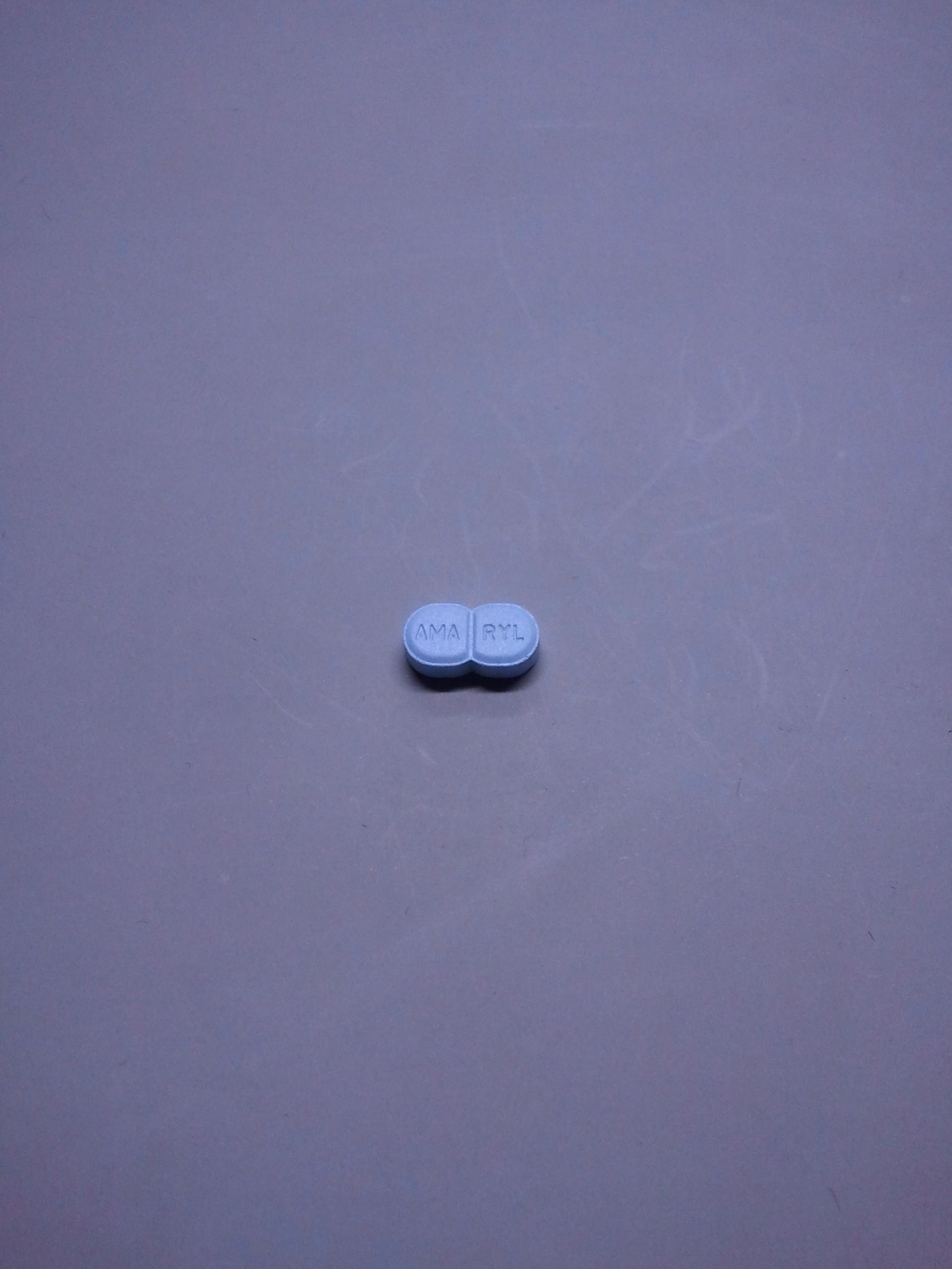Pill: (374, 580, 558, 706)
